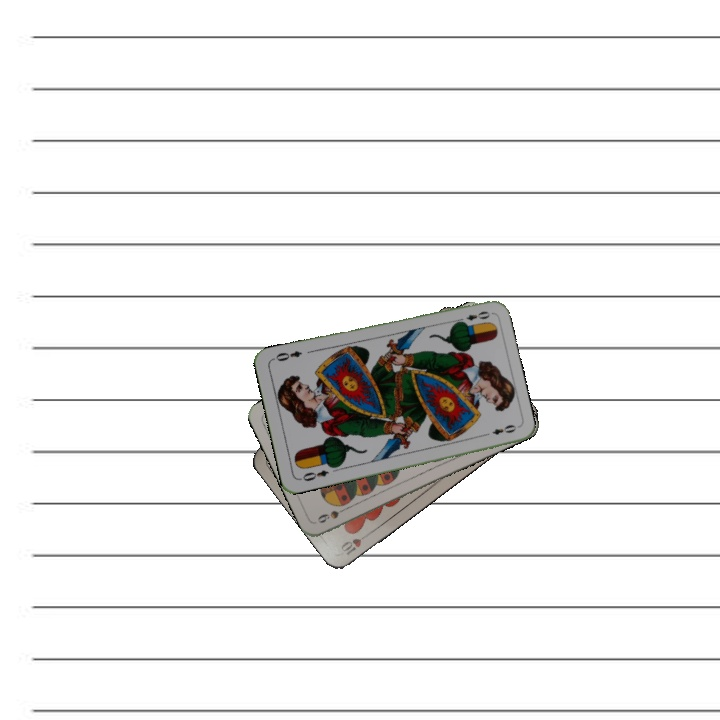EO: (453, 307, 493, 326), (296, 466, 331, 484)
H10: (336, 528, 373, 558)
S9: (313, 502, 352, 526)
